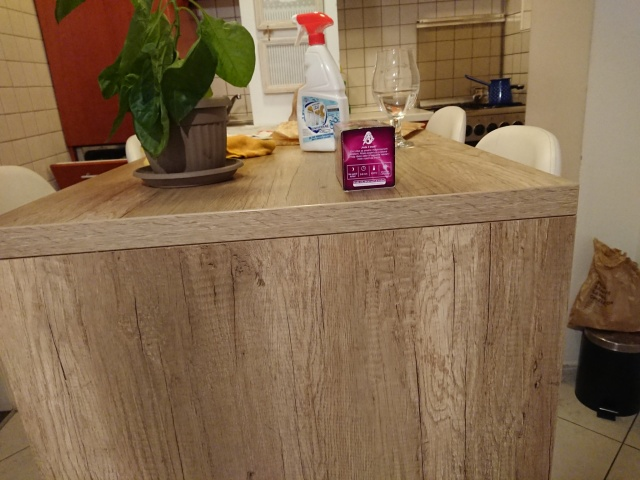Franck Black Currant Tea 60g: (331, 116, 398, 195)
